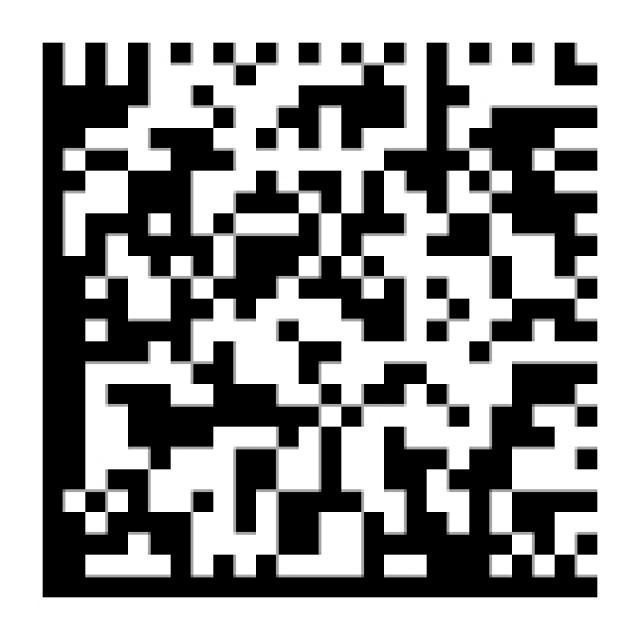Data-Matrix: (28, 28, 609, 609)
